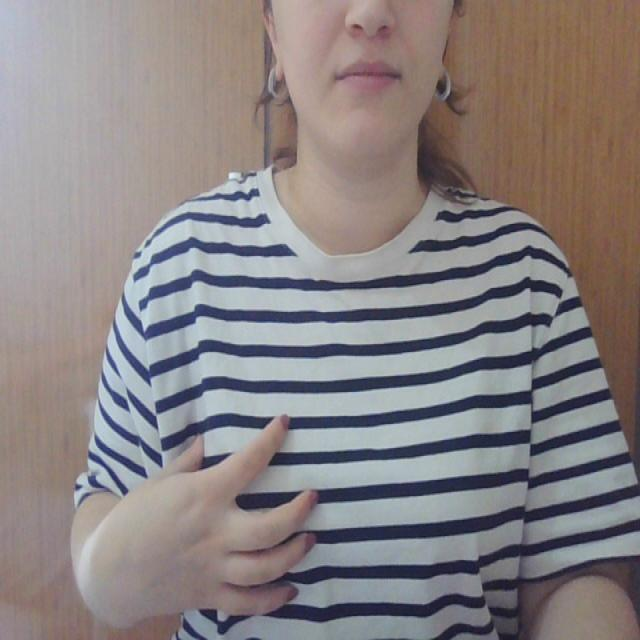Anne: (133, 406, 517, 621)
